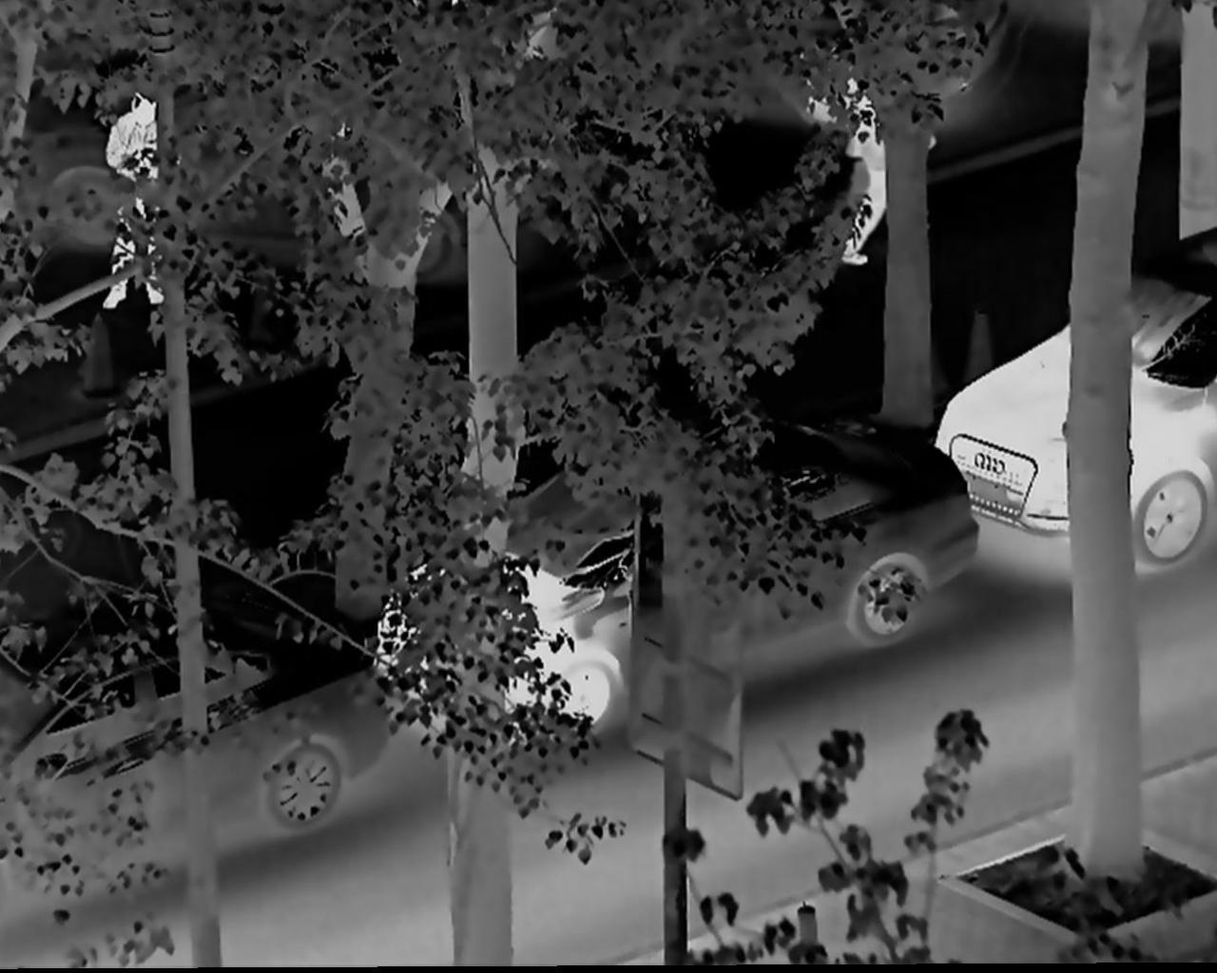person: (96, 85, 176, 307), (821, 82, 880, 277)
